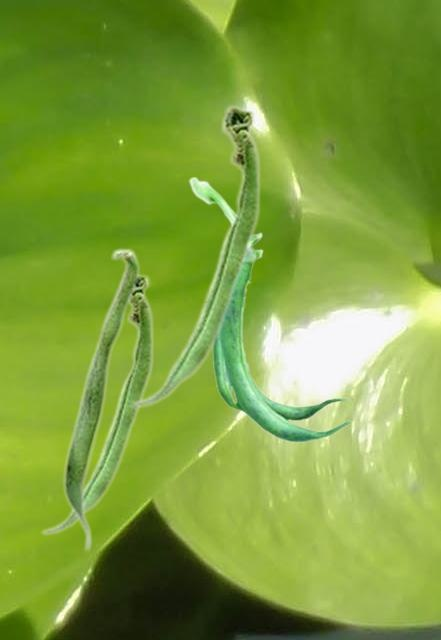french_bean: (188, 176, 351, 442), (130, 103, 260, 408), (40, 270, 153, 535), (62, 247, 139, 552)
